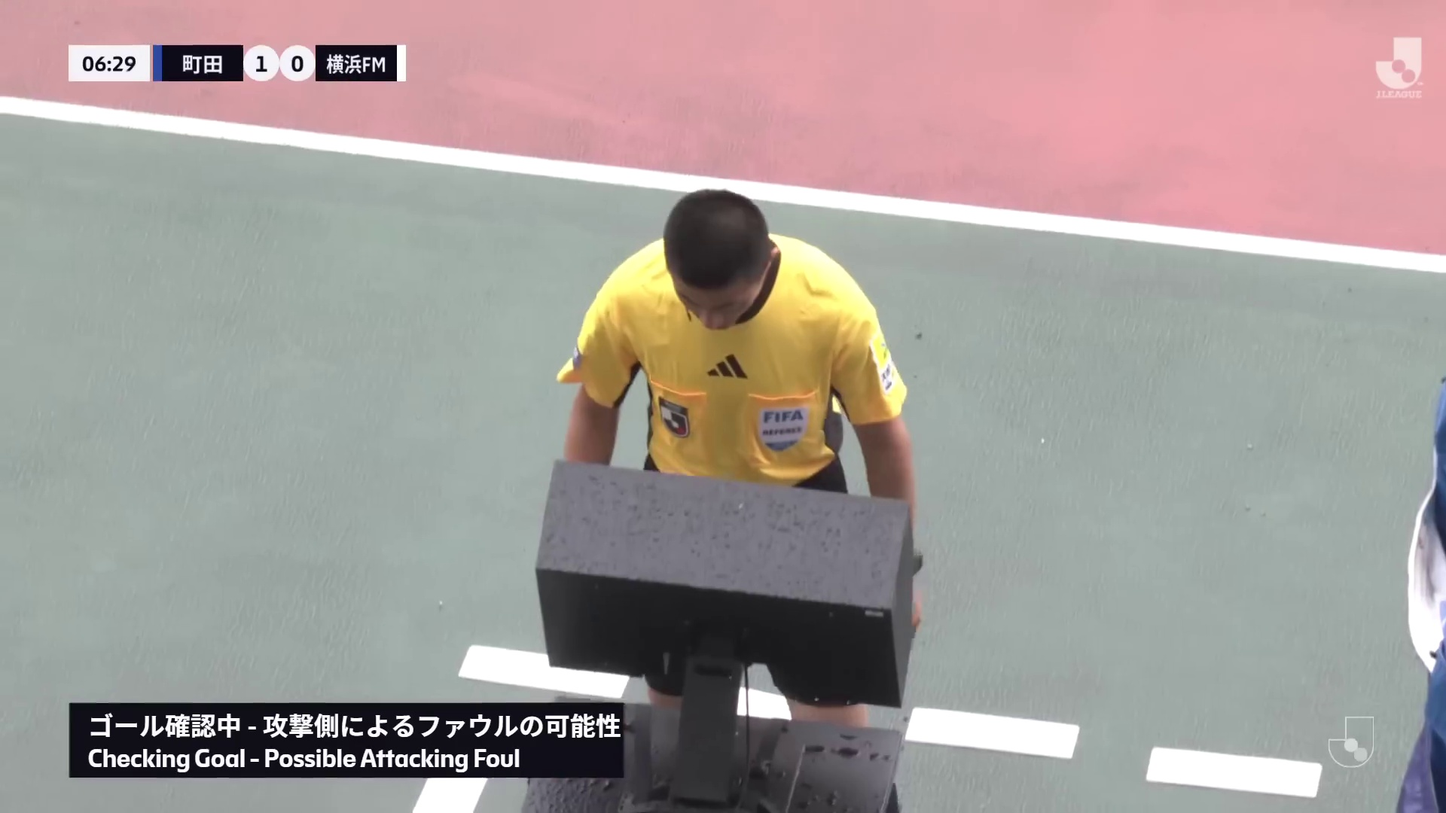referee: (535, 179, 930, 484)
